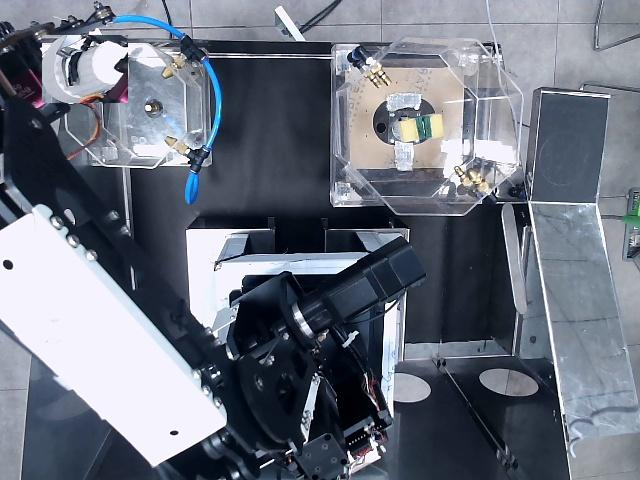cup: (42, 35, 128, 103)
